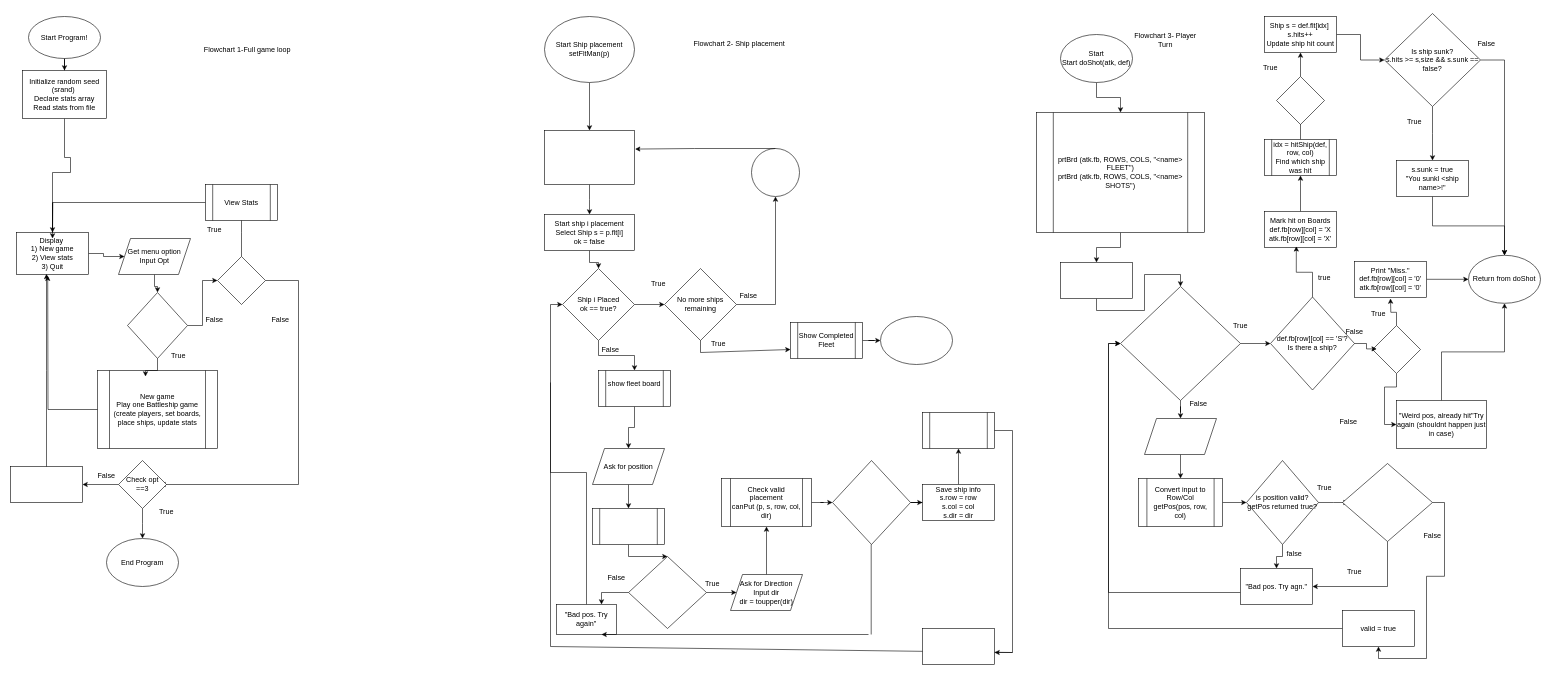
This 1551x675 diagram has some shape labels left out. The shapes that lost their labels are listed below. From the top down, each one's box as (x1, y1, x2, y2) in pixels, then its label:
(1276, 76, 1324, 124): idx != -1 Valid ship index?
(544, 130, 634, 184): Loop over ships For each ship in p.flt (index i = 0 to p.snum-1
(751, 148, 800, 196): Next ship
(217, 256, 266, 304): Check Opt ==2
(1060, 262, 1132, 298): Initialize target loop valid = false
(127, 292, 188, 358): Check opt ==1
(880, 316, 952, 364): End Ship Placement return
(1120, 286, 1240, 400): valid target chosen? valid == true?
(1372, 325, 1420, 374): def.fb [row][col] == '.'?
(922, 412, 994, 448): Place the Ship putShip (p,s) Mark p.fb with 'S'
(1144, 418, 1216, 454): input target Input pos
(10, 466, 82, 502): Bad Option Print "Bad opt"
(832, 460, 910, 544): Can ship fit here canPut == true?
(1342, 463, 1432, 542): atk.sb[row][col] != '.'? Has this been targetted
(592, 508, 664, 544): Convert Position getPos(pos, row, col)
(628, 556, 706, 628): getPos returned true?
(922, 628, 994, 664): Mark as Placed ok = true
